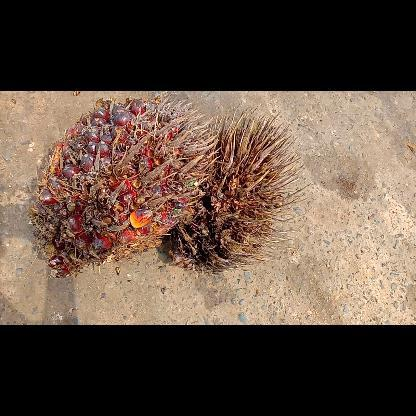Janjang kosong: (158, 106, 304, 276)
TBS masak: (28, 96, 218, 276)
